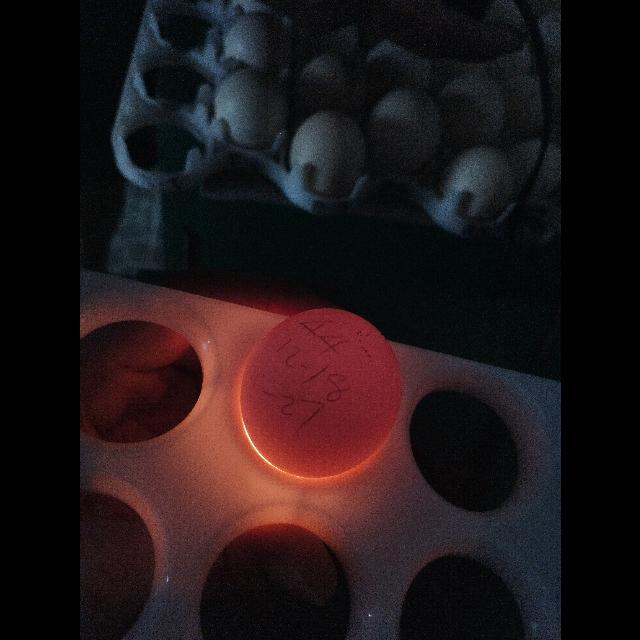Infertile: (237, 303, 409, 482)
